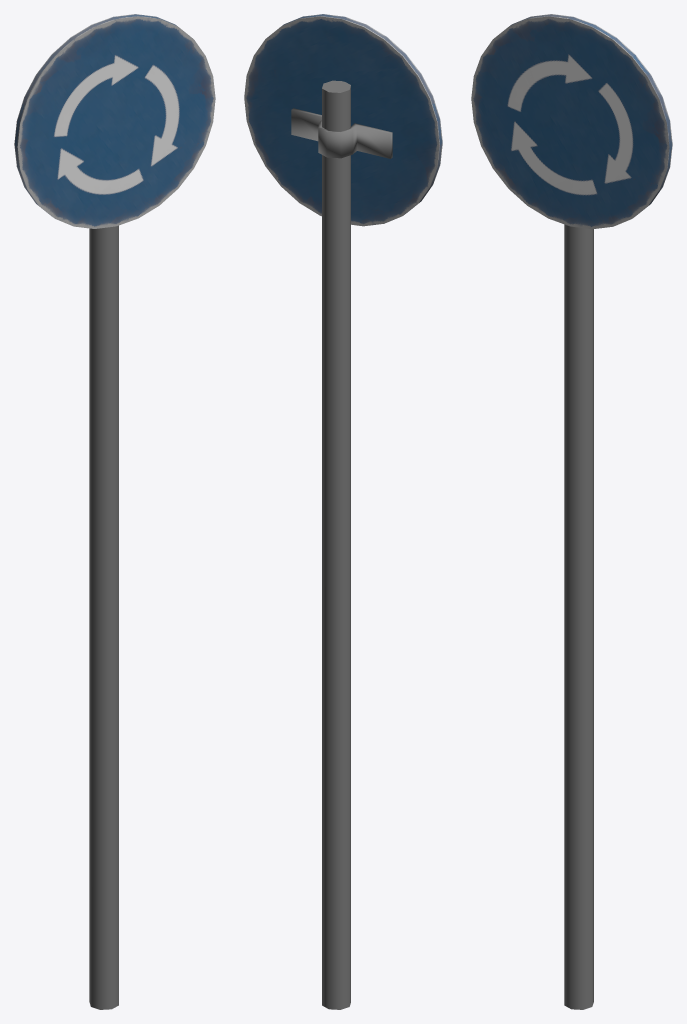
File: SM_sign_traffic_002.fbx
3 views of the same model, side by side, from view 1: azimuth 30°, elevation 25°; view 2: azimuth 150°, elevation 25°; view 3: azimuth 330°, elevation 25° (orthographic).
Visible parts, largest first — view 1: Object32686; view 2: Object32686; view 3: Object32686.
Part boxes in pixels (<box>): Object32686: <box>14,14,215,1009</box>; Object32686: <box>244,14,442,1009</box>; Object32686: <box>471,14,672,1009</box>.
Size of the model in its own units: 23.53 by 113 by 4.16.
